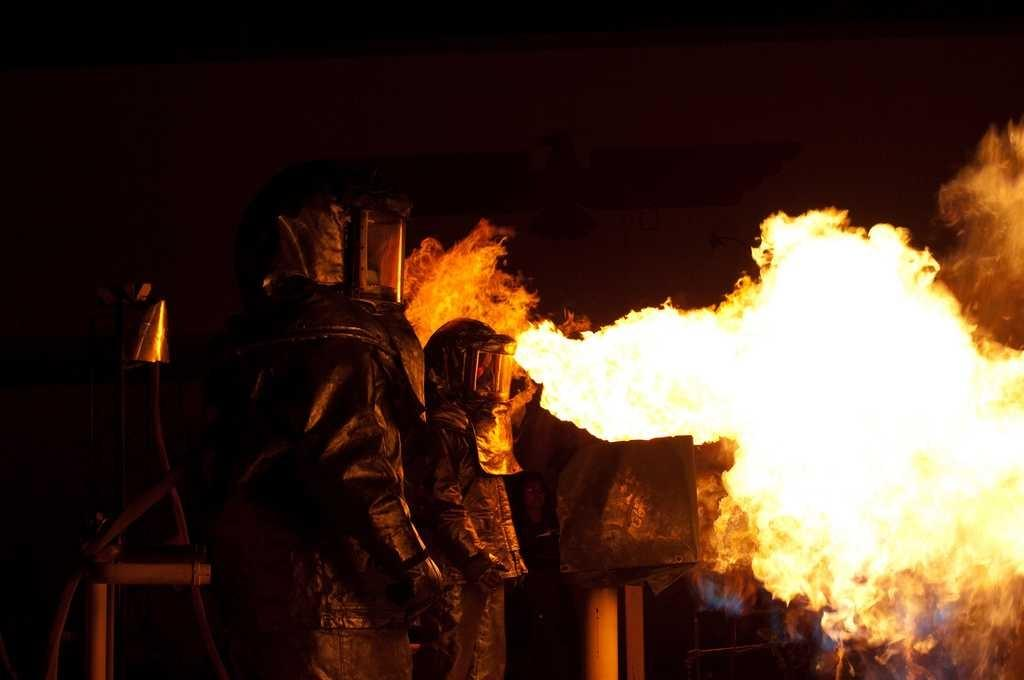fire: (755, 260, 972, 593), (523, 327, 733, 430), (412, 238, 513, 320)
